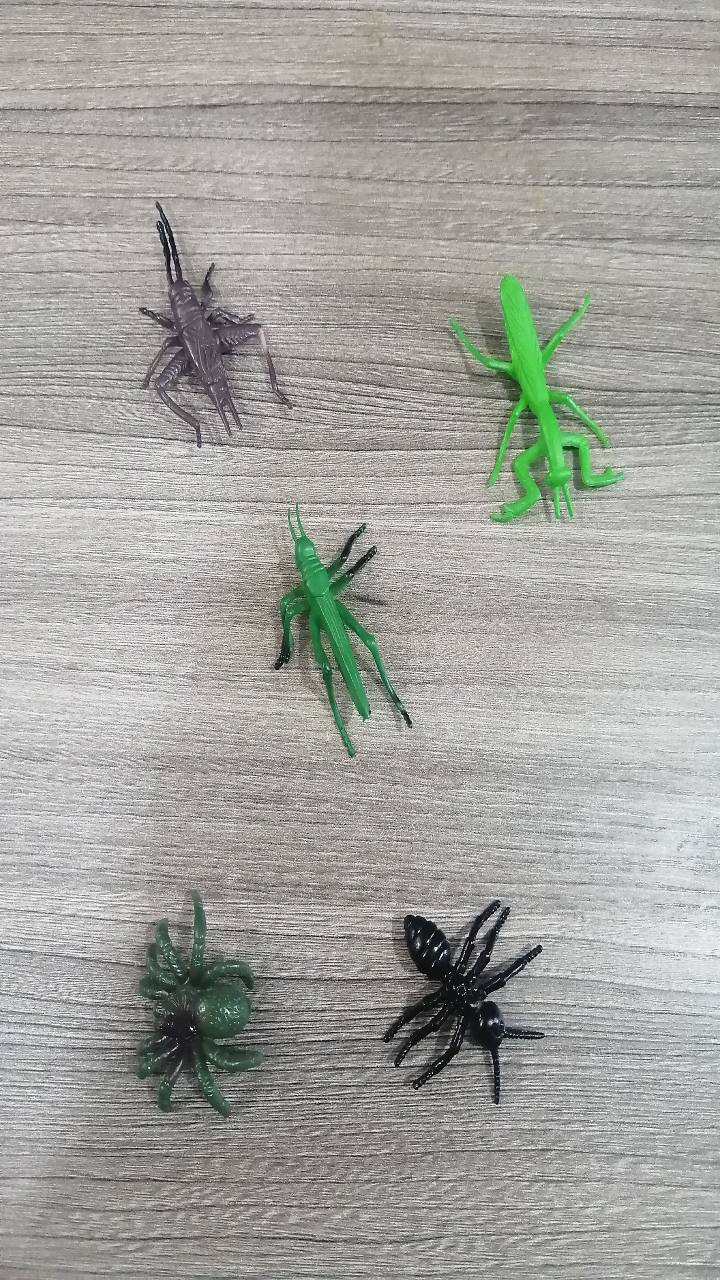intruso: (343, 859, 608, 1142), (214, 475, 444, 755), (103, 172, 312, 468), (86, 866, 306, 1139), (431, 249, 634, 529)
